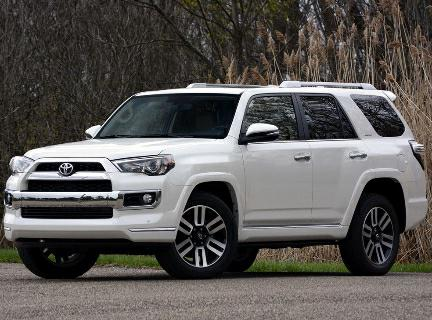丰田-4Runner: (4, 78, 432, 280)
